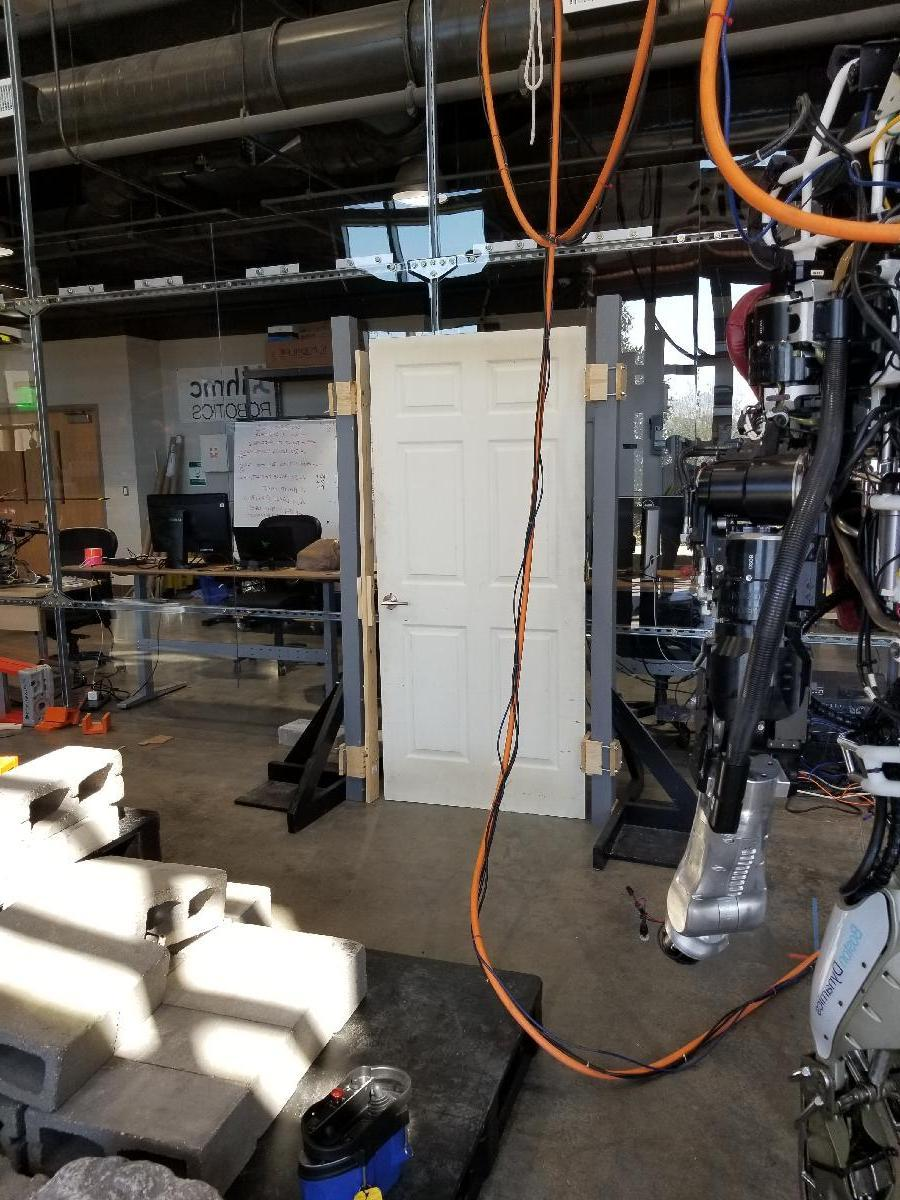door: (366, 323, 584, 809)
handle: (379, 593, 410, 611)
